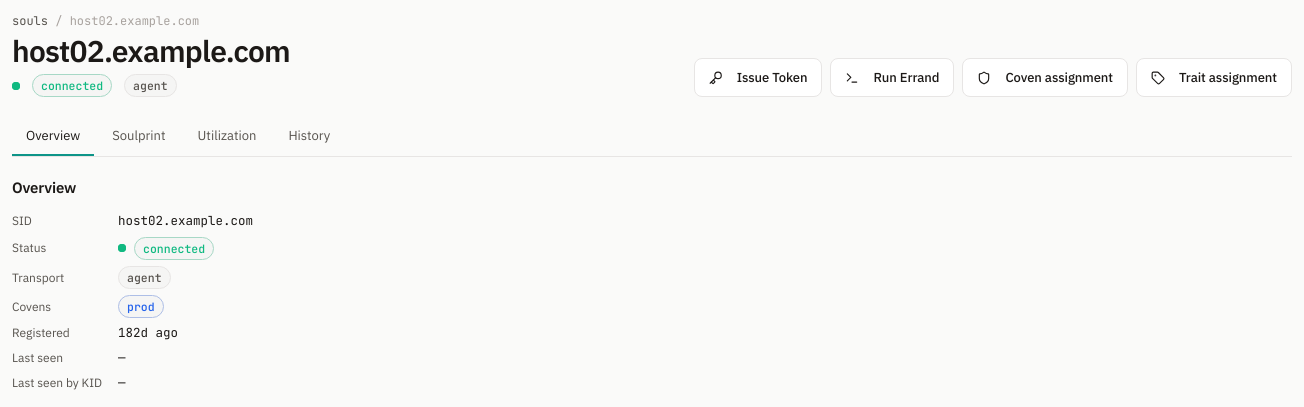
it: SoulUtilizationTab › graceful no-data when latest is absent
Expected: the heading "host02.example.com" is shown, [12,36,290,66]
Step 1. Click the tab "Utilization" → (227, 137), box [184,117,270,156]
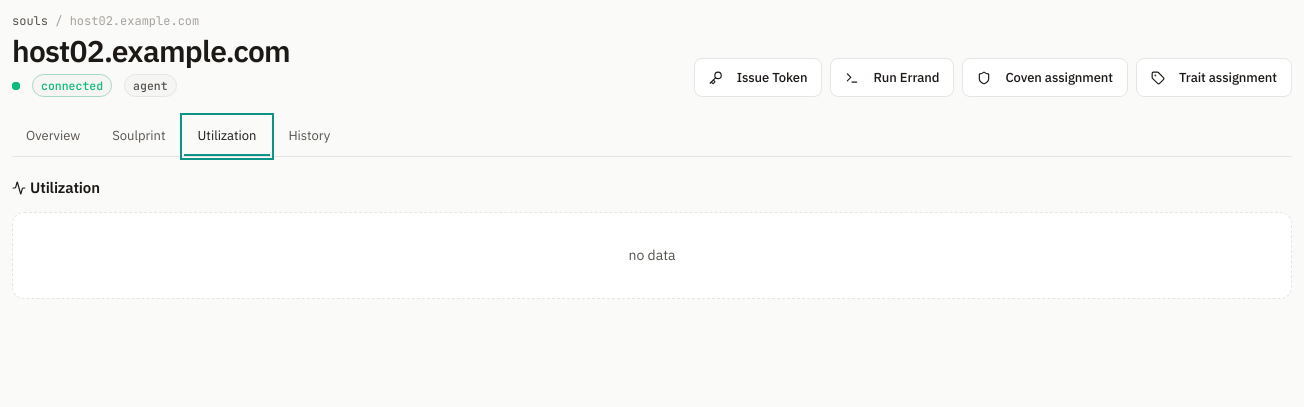
Expected: the text "no data" is shown, [12,212,1292,299]
